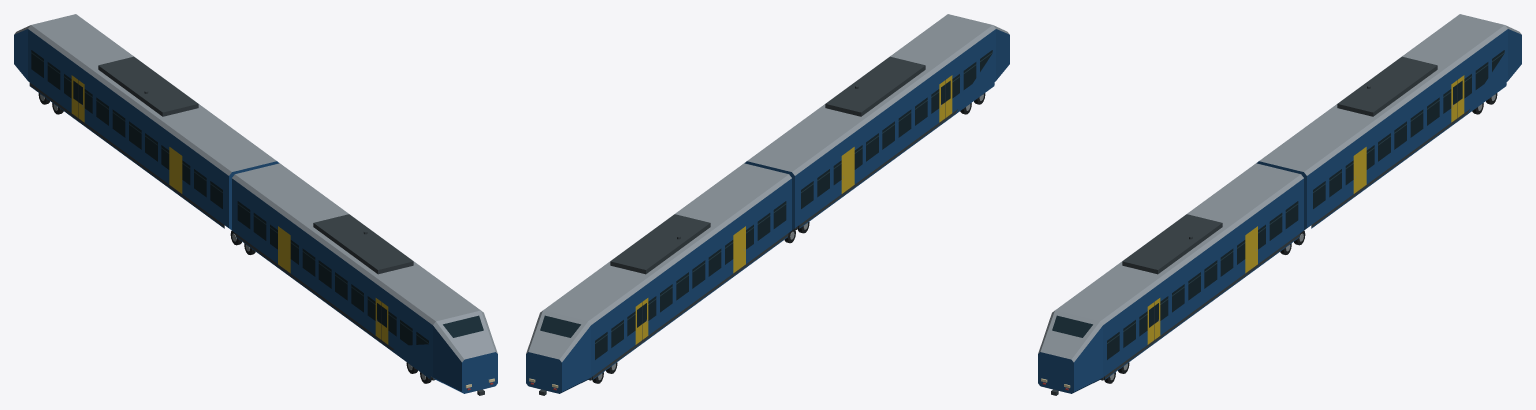
Rendered from neb-pesa-link.glb.
3 views of the same model, side by side, from view 1: azimuth 30°, elevation 25°; view 2: azimuth 150°, elevation 25°; view 3: azimuth 330°, elevation 25° (orthographic).
Visible parts, largest first — view 1: neb-pesa-link.segment-01.005, neb-pesa-link.segment-02.005; view 2: neb-pesa-link.segment-02.005, neb-pesa-link.segment-01.005; view 3: neb-pesa-link.segment-01.005, neb-pesa-link.segment-02.005.
Boxes of the visible parts, x1=… form: neb-pesa-link.segment-01.005: x1=230, y1=163, x2=497, y2=395; neb-pesa-link.segment-02.005: x1=14, y1=14, x2=279, y2=230; neb-pesa-link.segment-02.005: x1=526, y1=163, x2=791, y2=395; neb-pesa-link.segment-01.005: x1=744, y1=14, x2=1009, y2=243; neb-pesa-link.segment-01.005: x1=1038, y1=163, x2=1305, y2=395; neb-pesa-link.segment-02.005: x1=1256, y1=14, x2=1521, y2=230.
Size of the model in its own units: 2.93 by 4.14 by 44.17.
